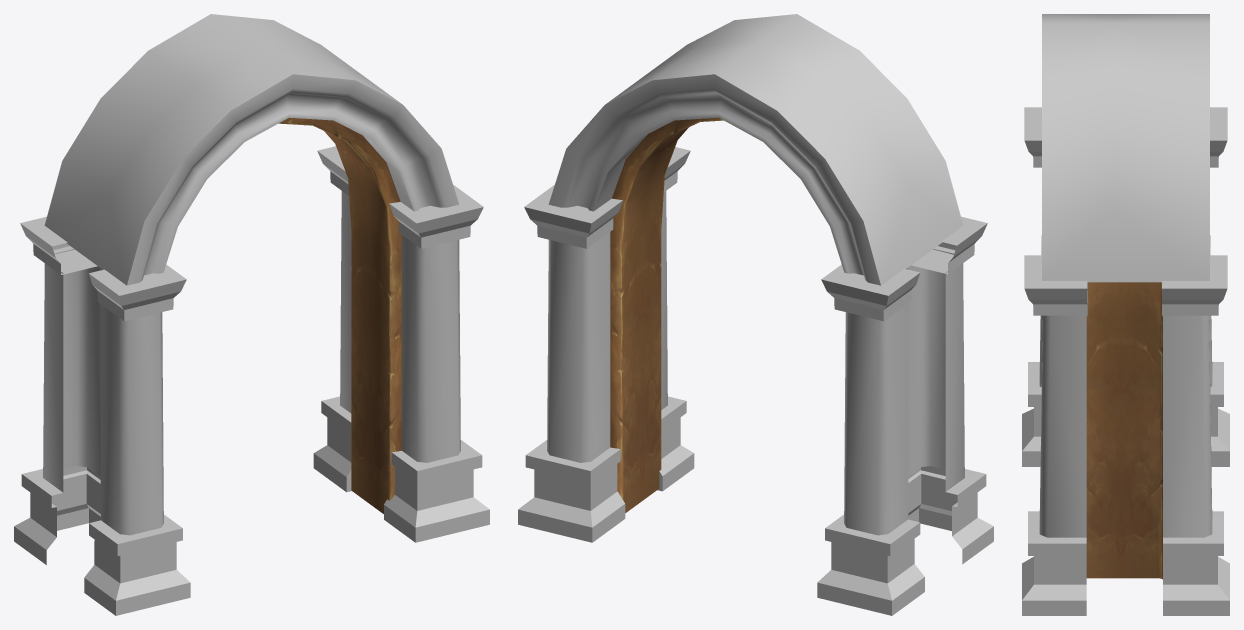
Rendered from Arch_Door_07.FBX.
The picture shows the model from 3 angles, left to right: view 1: azimuth 30°, elevation 25°; view 2: azimuth 150°, elevation 25°; view 3: azimuth 270°, elevation 25°; orthographic projection. The views are drawn at different scales.
Parts seen in each view (by area): view 1: Arch_Door_07; view 2: Arch_Door_07; view 3: Arch_Door_07.
Boxes of the visible parts, left/top/right/bottom form: Arch_Door_07: left=14, top=14, right=489, bottom=615; Arch_Door_07: left=518, top=14, right=993, bottom=615; Arch_Door_07: left=1022, top=14, right=1229, bottom=615.
Size of the model in its own units: 449 by 212 by 561.
